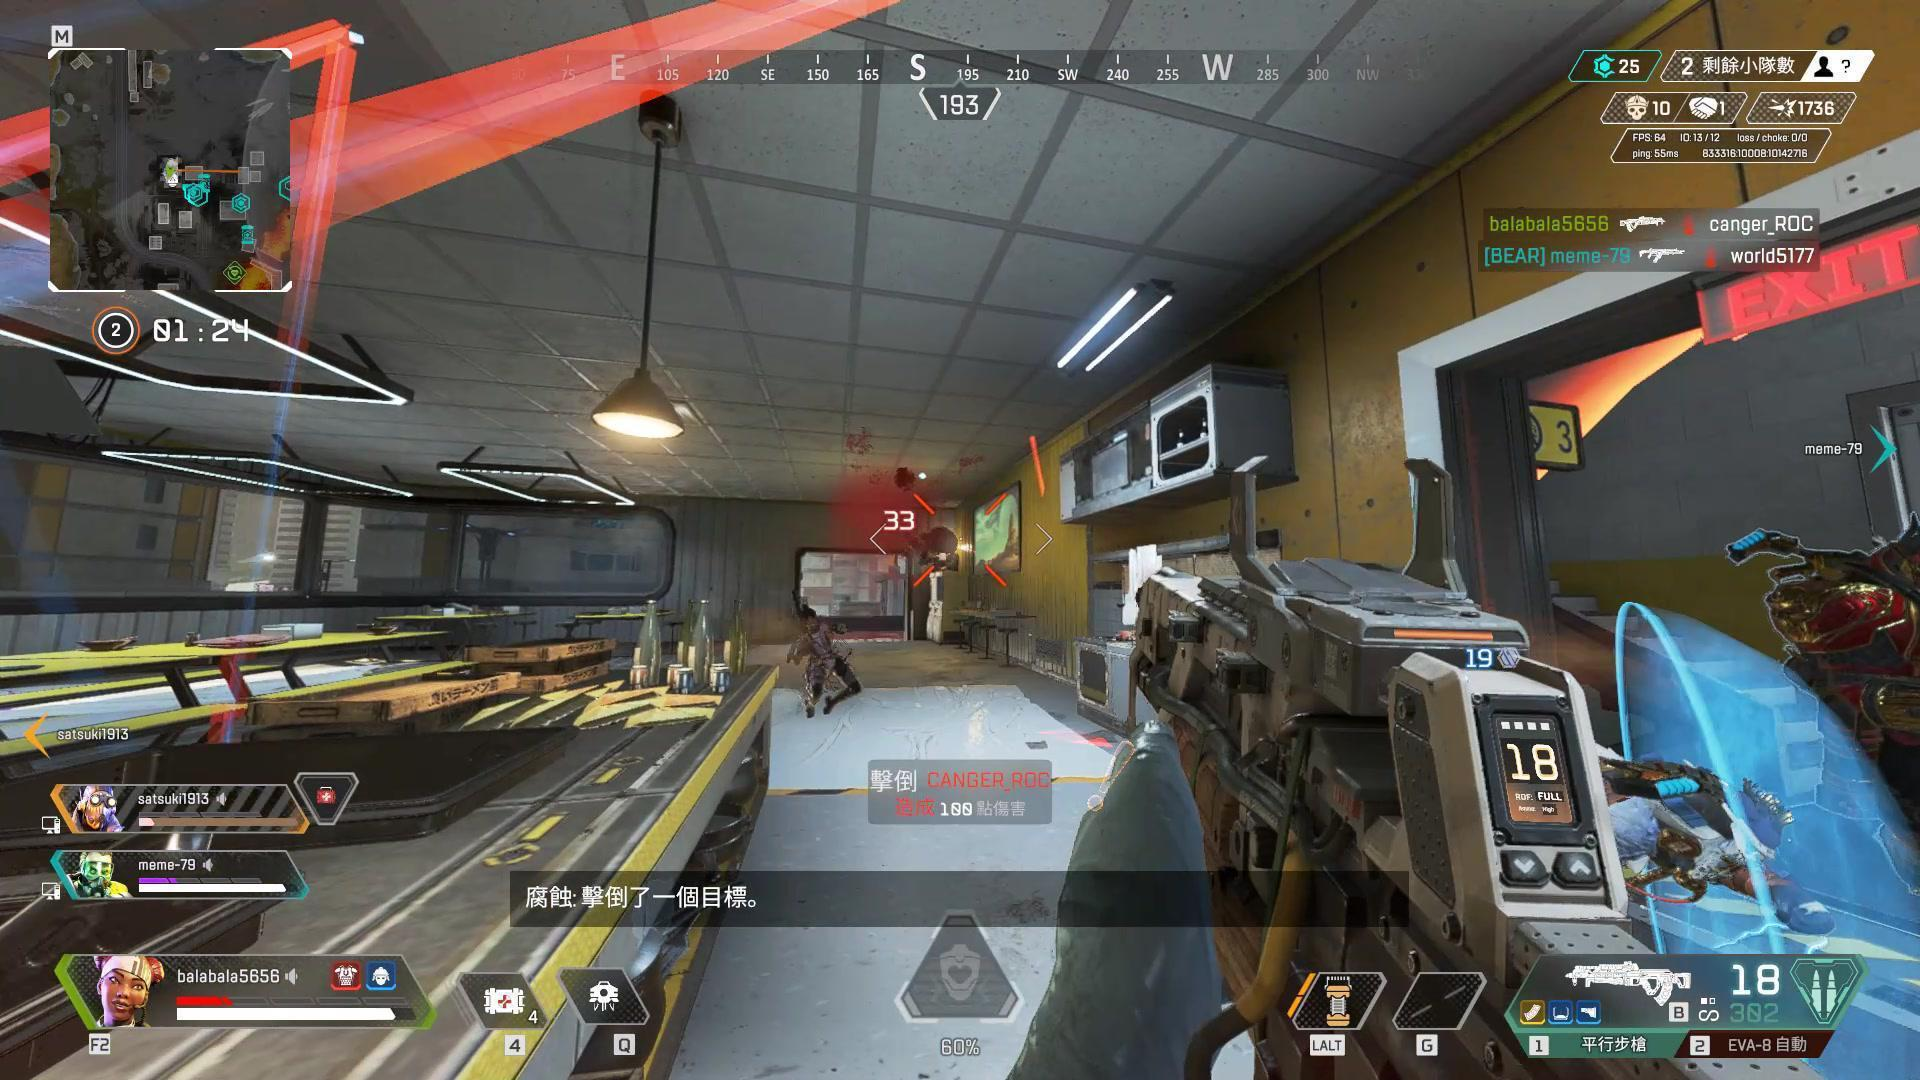avatar: (784, 604, 861, 721)
